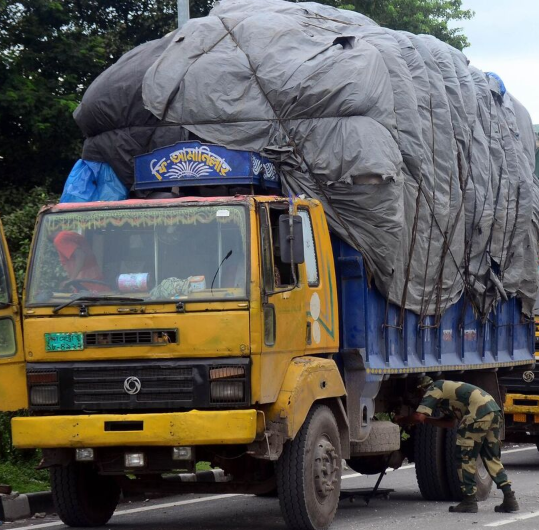Truck: (14, 10, 539, 530)
